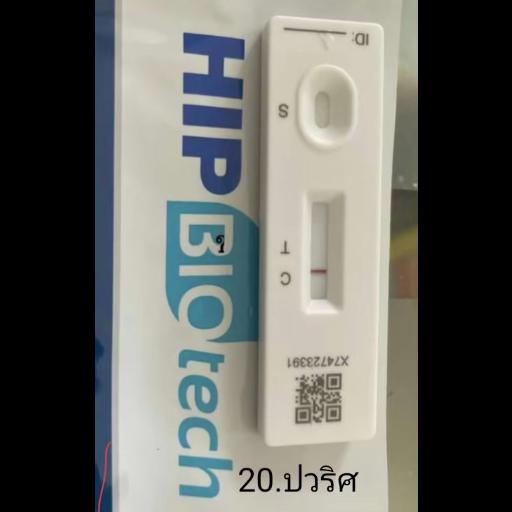Neg: (270, 18, 384, 438)
